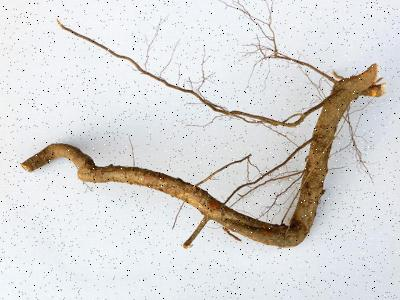Root: (21, 64, 383, 247), (22, 65, 382, 247)
